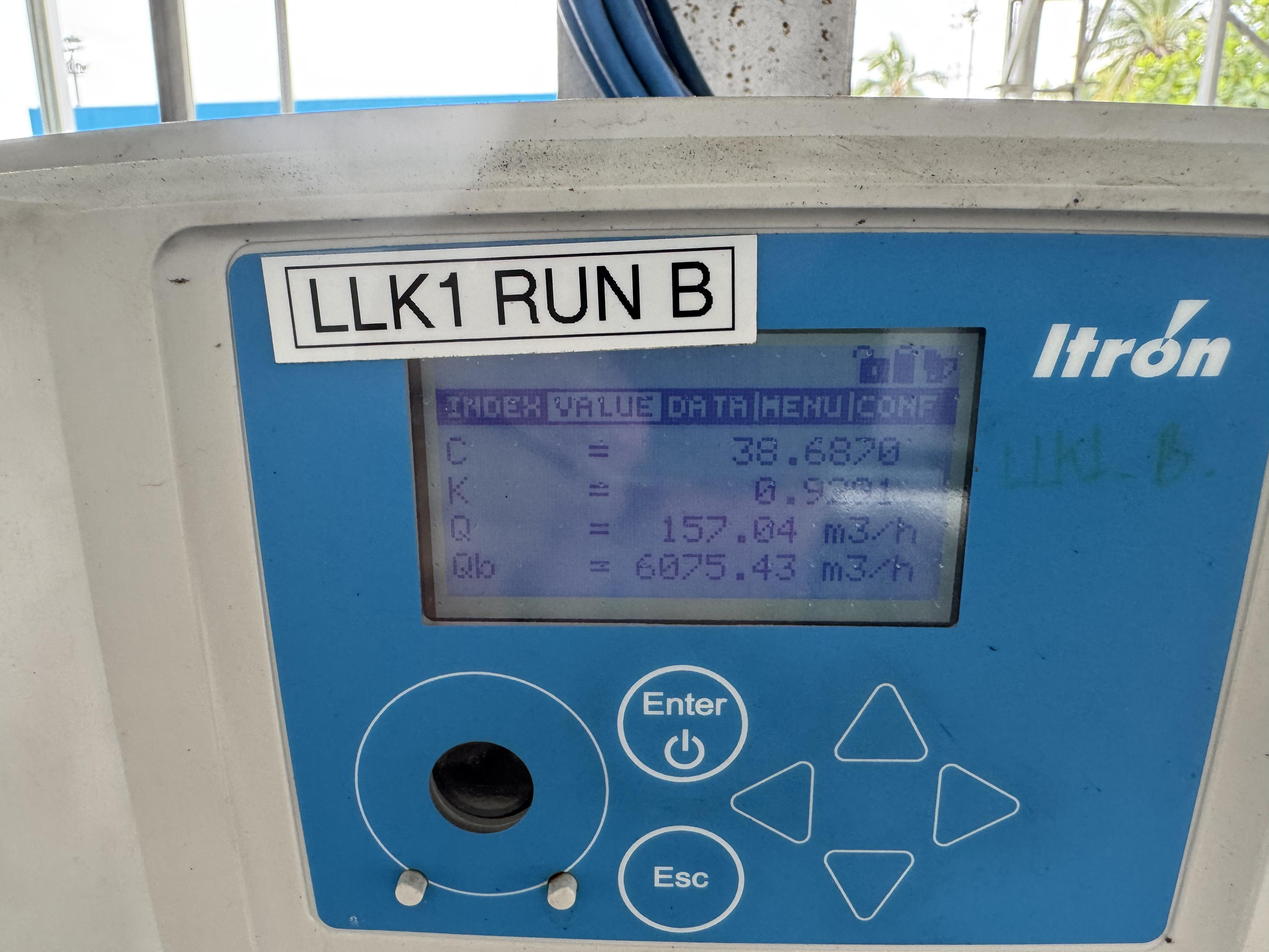digital_screen: (407, 329, 987, 629)
